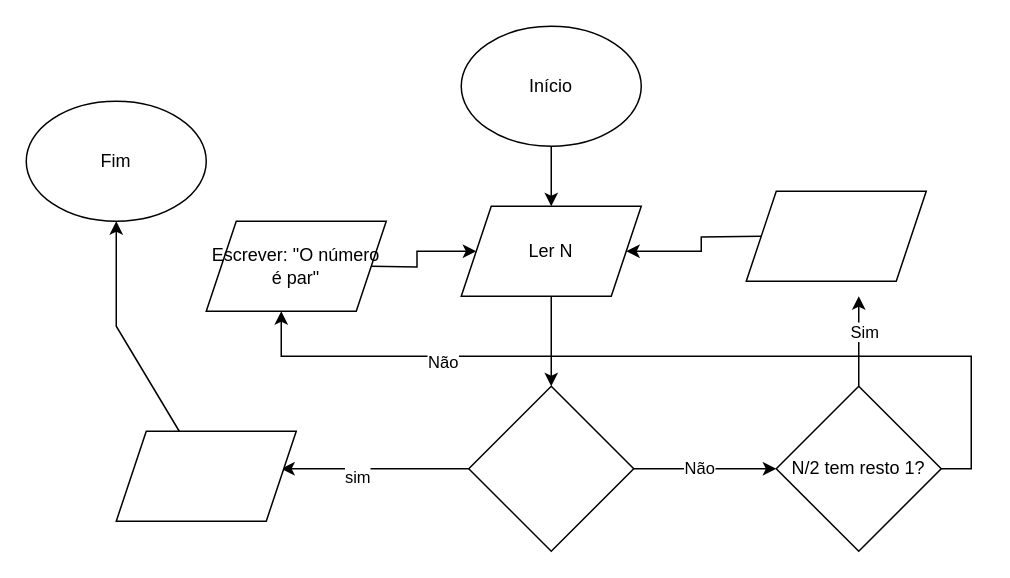
Image size: 1010x578. Some labels were removed from this diagram. The shapes that lost their labels are listed below. From the top down, each one's box as (x1, y1, x2, y2) in pixels, then its label:
(745, 190, 926, 281): Escrever: "O número é impar"
(115, 430, 296, 521): Escrever: "Sair"
(467, 385, 634, 551): N=0
